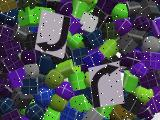Right: (34, 9, 72, 59), (88, 61, 124, 109)
